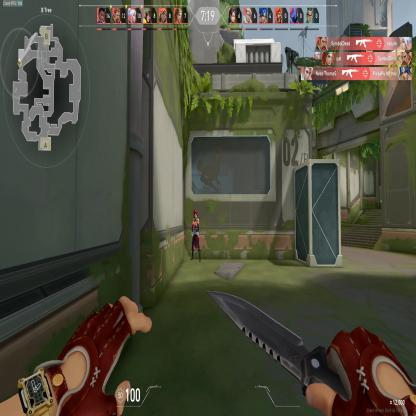enemy: (190, 206, 201, 263)
